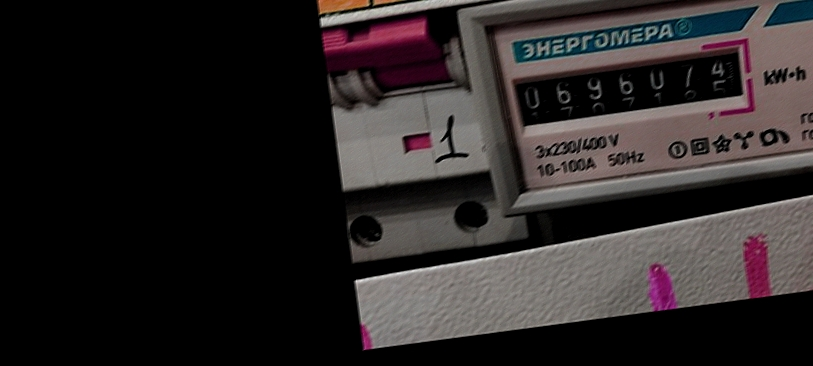0: (522, 84, 544, 111), (647, 64, 667, 92)
4: (708, 55, 727, 79)
5: (711, 78, 730, 100)
6: (615, 68, 637, 98), (553, 79, 574, 106)
7: (679, 61, 698, 89)
9: (585, 74, 604, 102)
screen: (501, 36, 762, 148)
